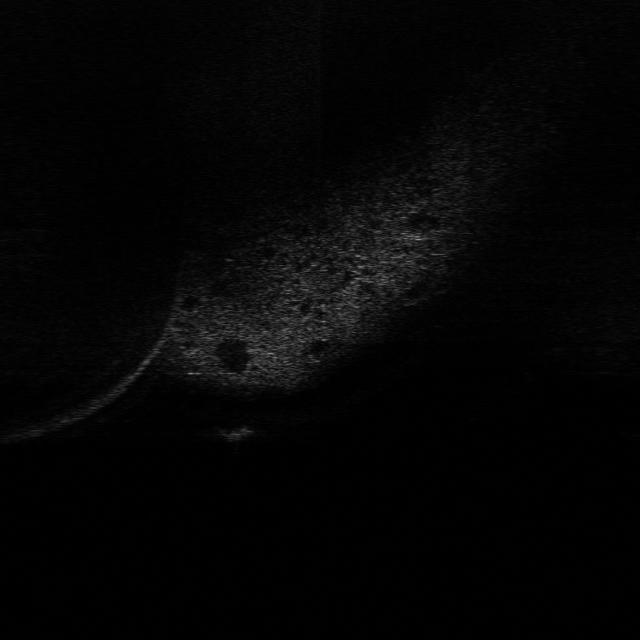cube: (207, 420, 257, 447)
